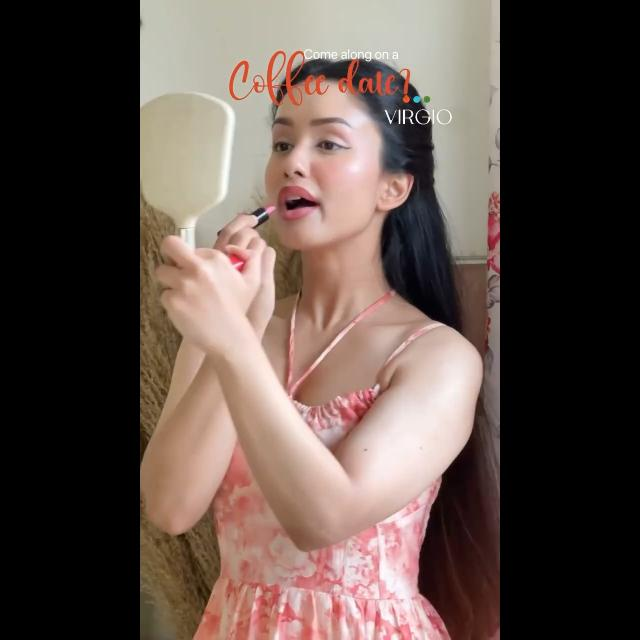dress: (216, 302, 446, 640)
